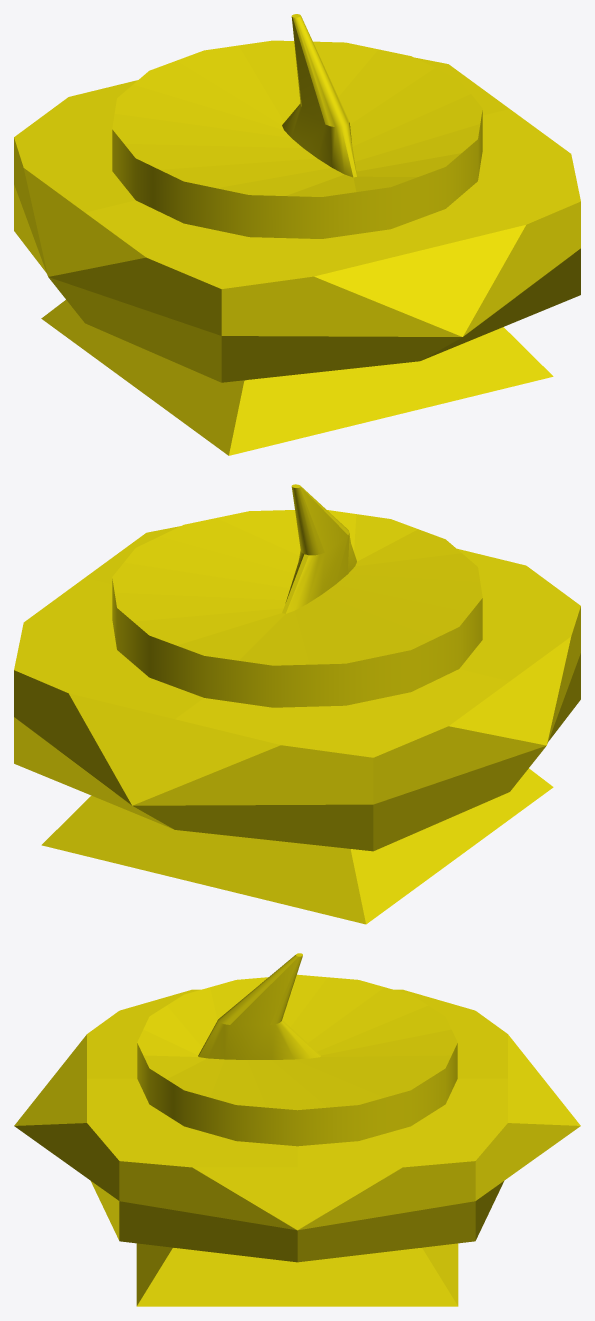
Rendered from Sun Dial Perfect.fbx.
3 renders of one model, top to bottom at view 1: azimuth 30°, elevation 25°; view 2: azimuth 150°, elevation 25°; view 3: azimuth 270°, elevation 25°, orthographic. The views are drawn at different scales.
Parts seen in each view (by area): view 1: pCube2; view 2: pCube2; view 3: pCube2.
Part boxes in pixels (box(x1,y1,x2,y2)): pCube2: box(14, 14, 580, 455); pCube2: box(14, 484, 580, 924); pCube2: box(14, 953, 580, 1306).
Bounding box in the file's own units: 69.36 × 43.98 × 79.62.
1 material, 1 textured.
